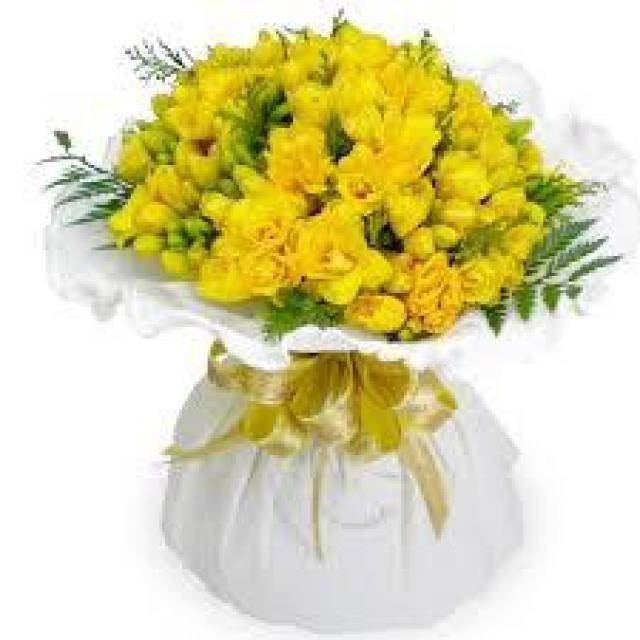freesia: (438, 86, 536, 232), (212, 207, 287, 300), (395, 244, 478, 327), (362, 91, 430, 168), (283, 208, 354, 280), (265, 120, 327, 187), (329, 150, 384, 214), (338, 283, 400, 336)
